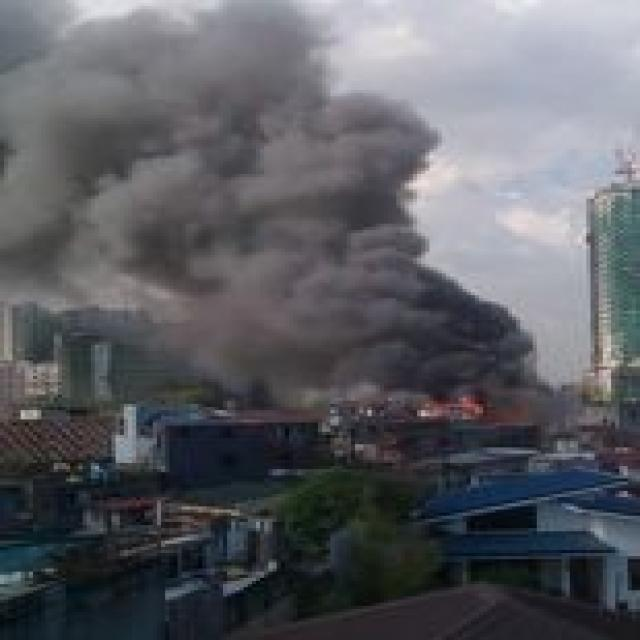Smoke: (0, 0, 417, 314), (177, 309, 533, 397)
